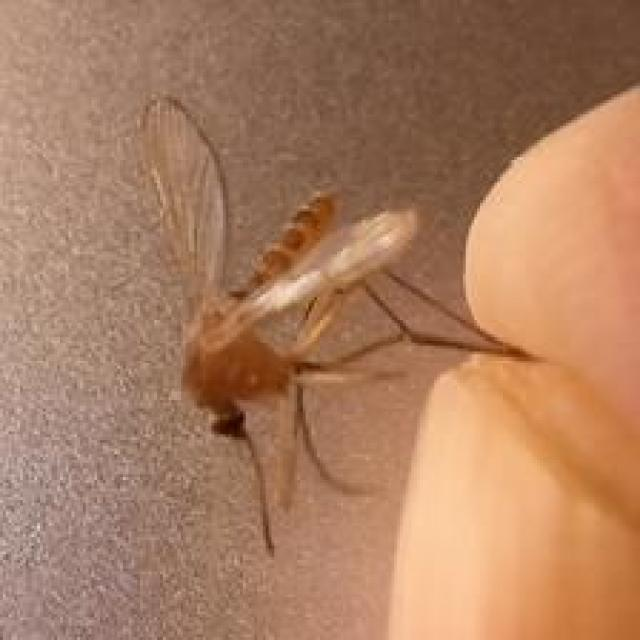Culex: (133, 92, 524, 557)
